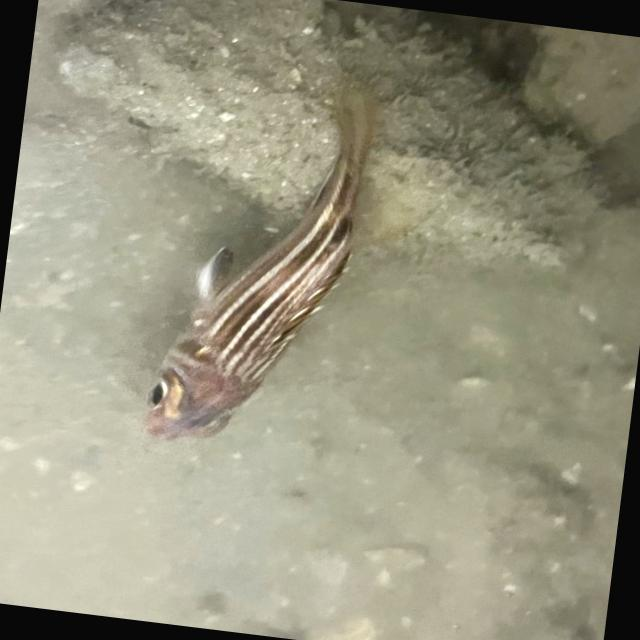Asker Baligi: (121, 59, 418, 476)
